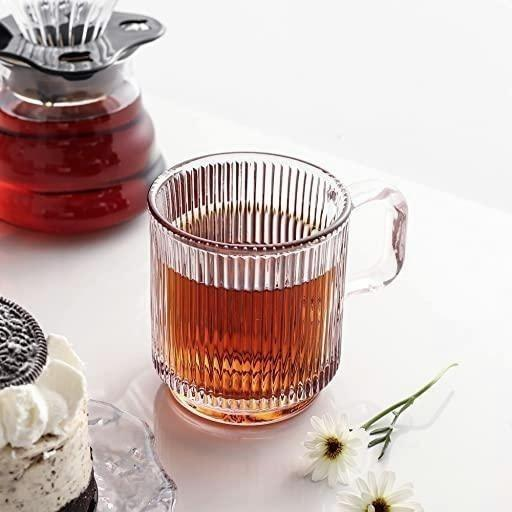glass-mug: (147, 146, 415, 431)
